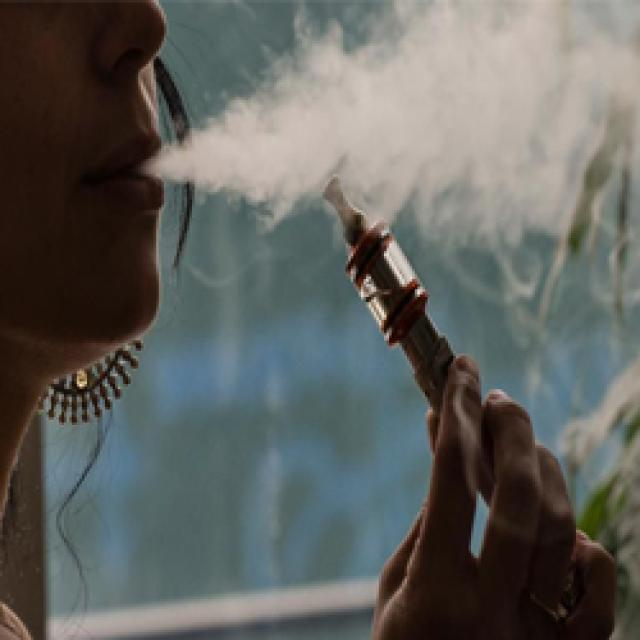Smooking: (159, 120, 512, 424)
